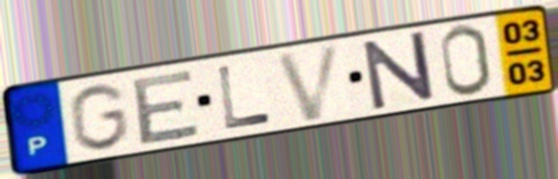0: (437, 21, 495, 99)
E: (130, 66, 205, 149)
G: (65, 81, 131, 153)
L: (214, 63, 275, 132)
N: (359, 28, 438, 114)
V: (272, 40, 347, 125)
